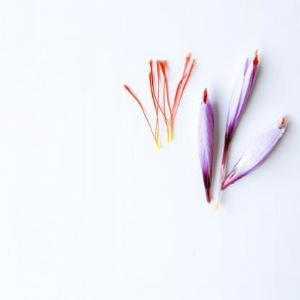Saffron: (218, 50, 270, 157), (226, 125, 283, 200), (199, 90, 214, 187)
